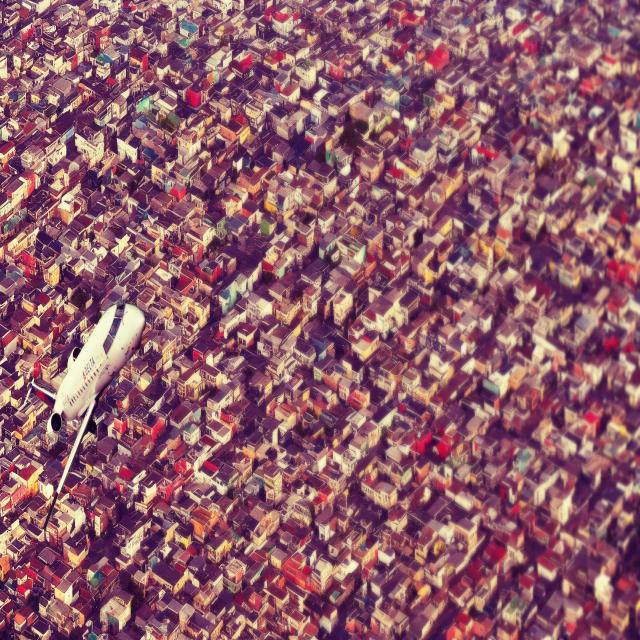airplane: (28, 296, 146, 532)
